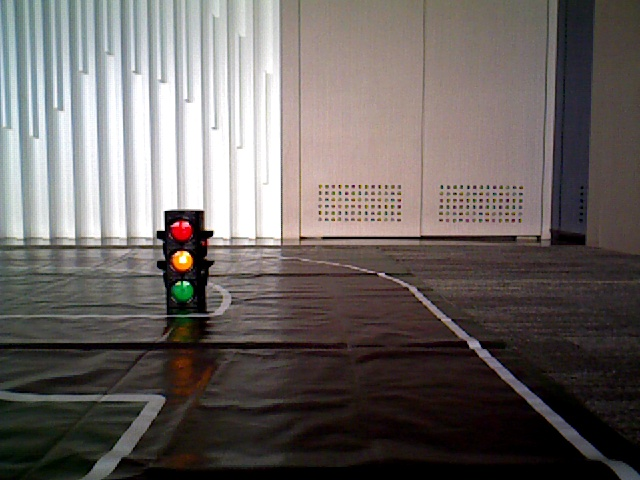yellow: (165, 214, 195, 305)
